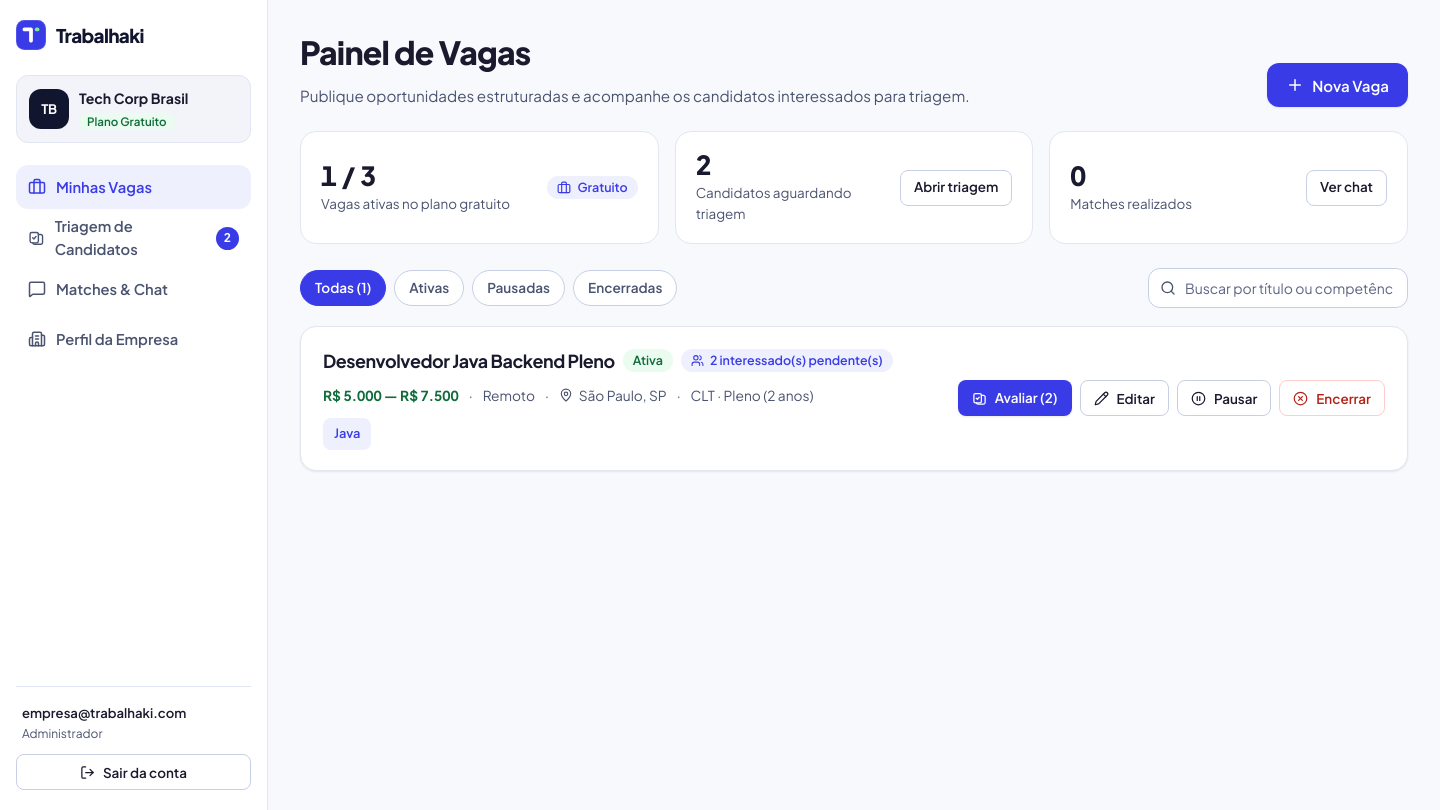
Test: Trabalhaki Empresas Web Portal › supports Escape close on drawers and accessible labels on icon buttons
Expected: the heading "Desenvolvedor Java Backend Pleno" is shown, 323,347 -> 615,375
Step 1. Click the button "Nova Vaga" → x=1338, y=85, box 1267,63 -> 1408,107
(page scrolled)
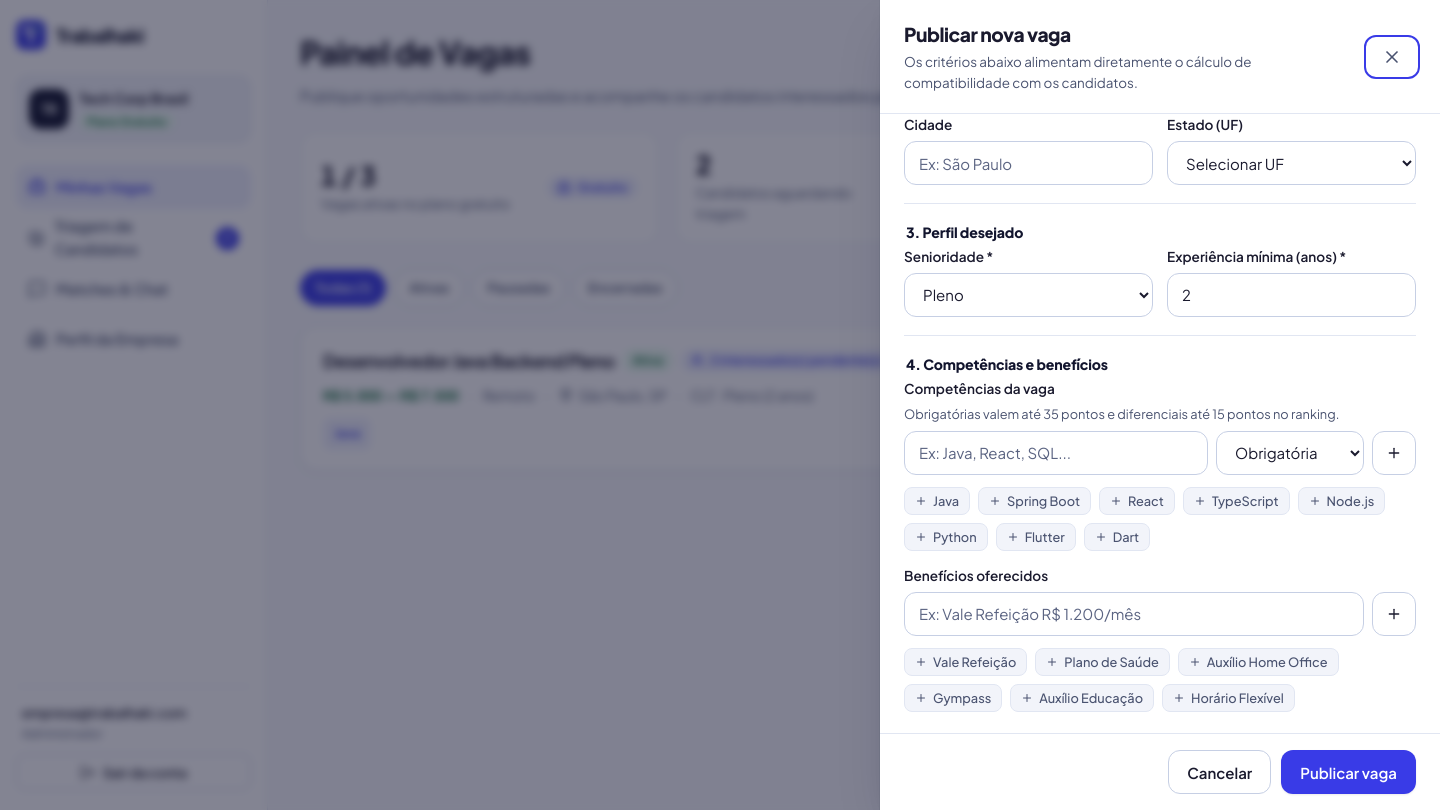
Result: the dialog is shown
Result: the button named "Adicionar competência" is shown at 1372,431 -> 1416,475
Result: the button named "Adicionar benefício" is shown at 1372,592 -> 1416,636
Step 2. Press Escape
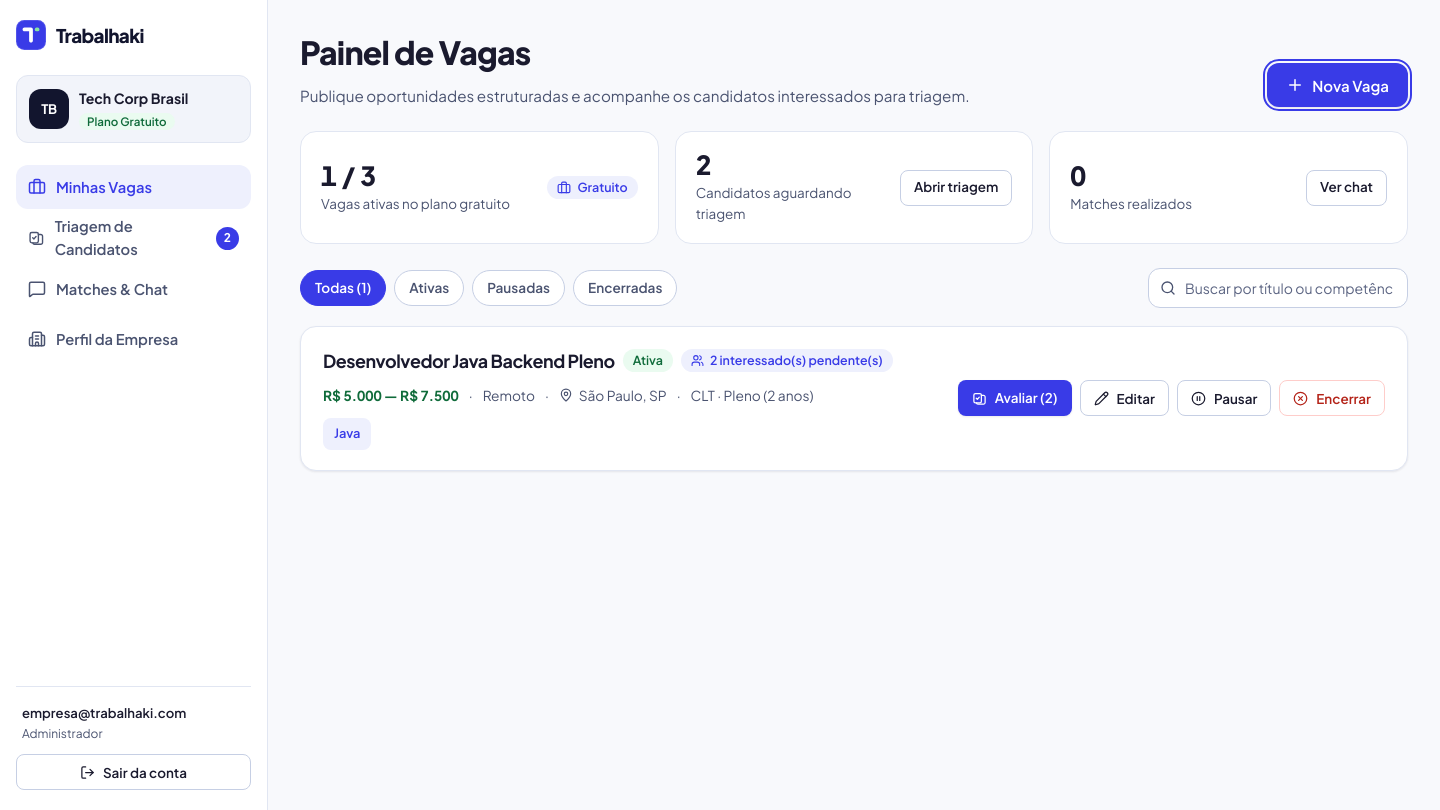
Result: the dialog is gone
